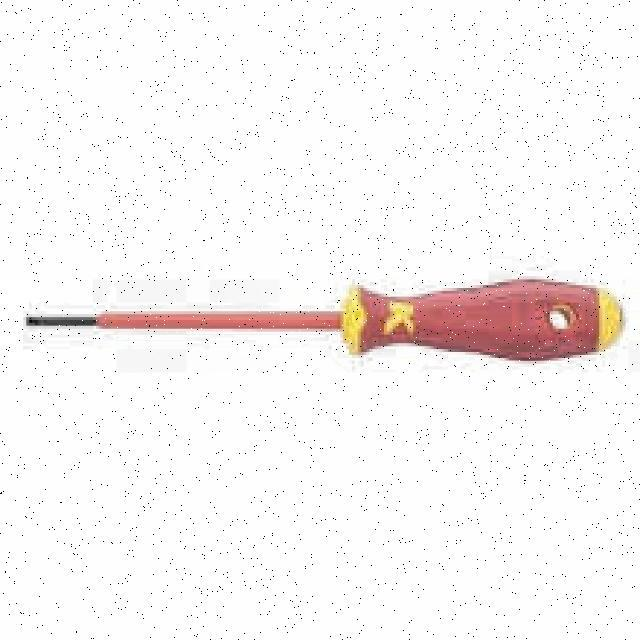screwdriver: (23, 277, 624, 362)
